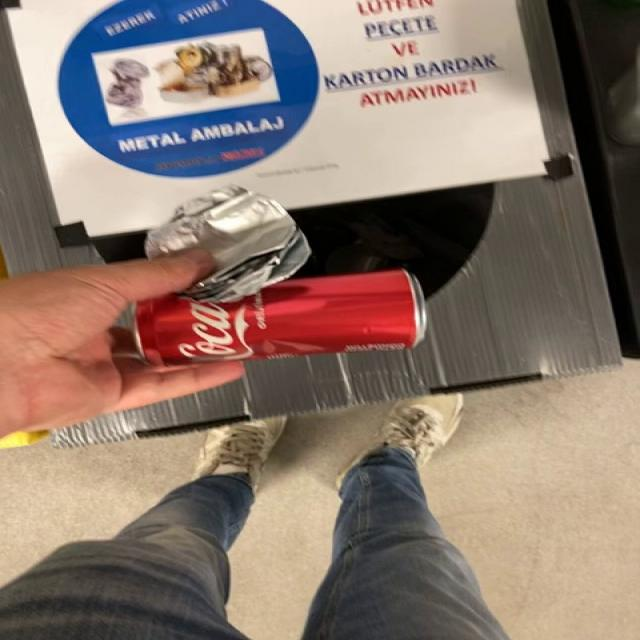bin: (1, 0, 620, 446)
metal: (135, 269, 427, 366)
